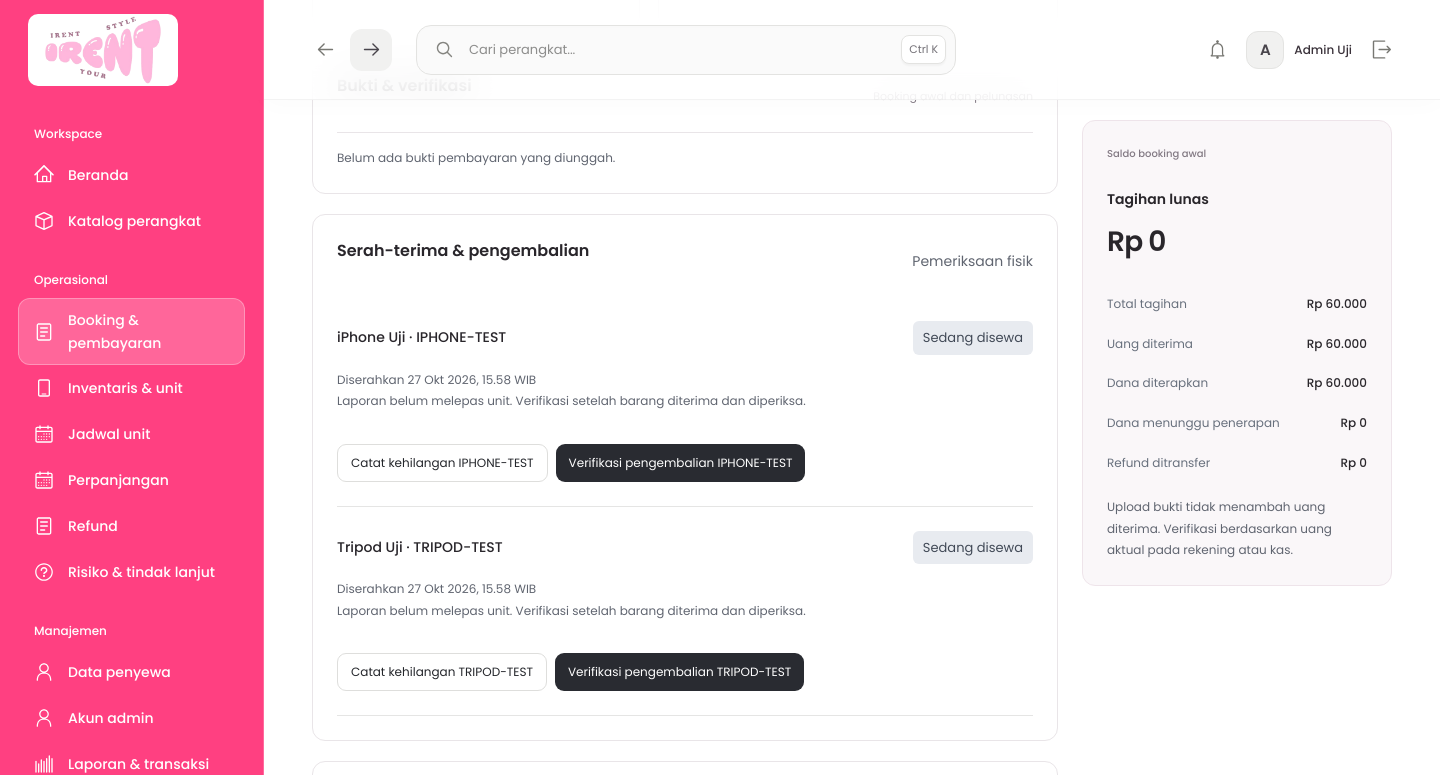
Test: verifies one booking item while another remains rented and exposes the new charge
(page scrolled)
Step 1. Click the button "Verifikasi pengembalian IPHONE-TEST" → (681, 463), box left=556, top=444, right=806, bottom=482
(page scrolled)
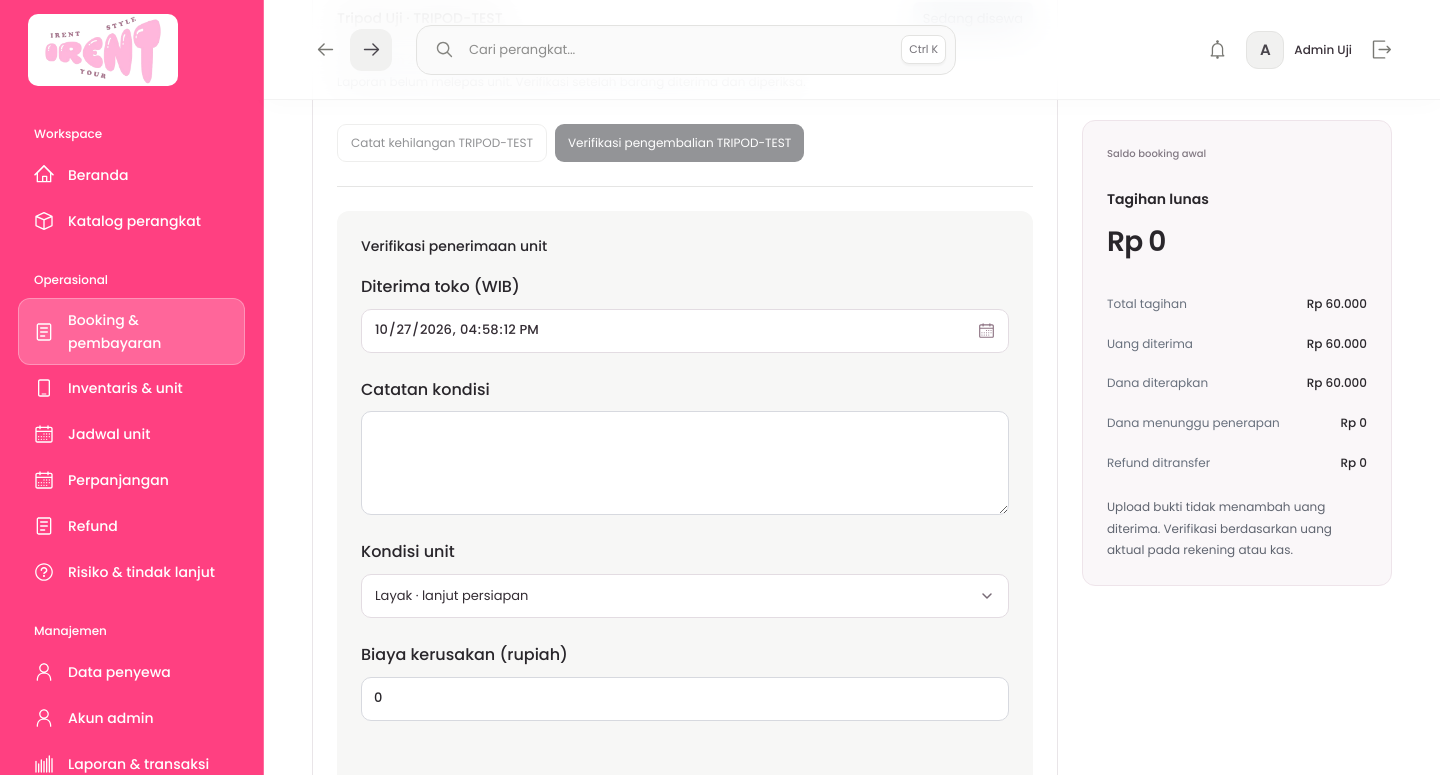
Step 2. Type "Barang lengkap dan fungsi diperiksa." into the text box labelled "Catatan kondisi" → (685, 463), box left=361, top=411, right=1009, bottom=515
(page scrolled)
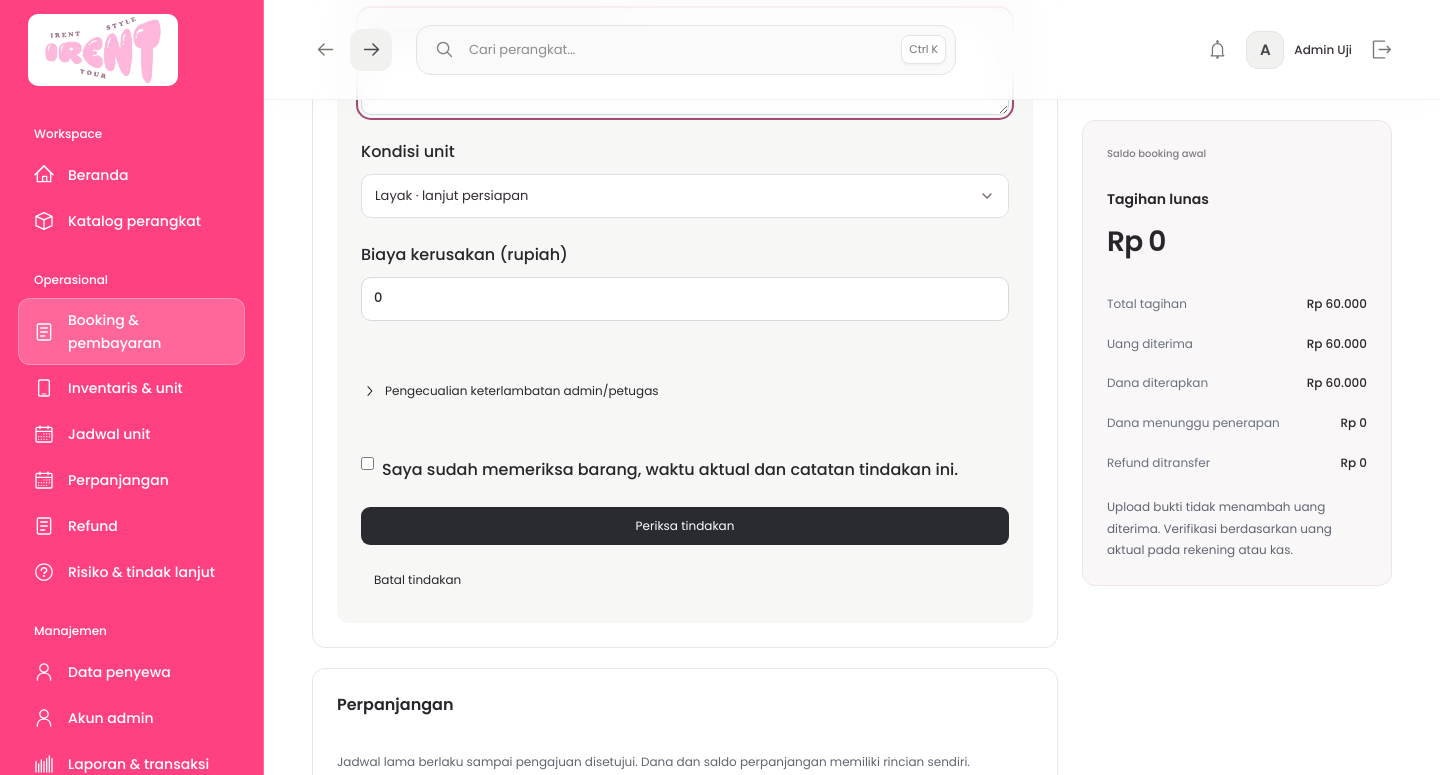
Step 3. Click the checkbox labelled "sudah memeriksa barang" → (368, 463), box left=361, top=457, right=374, bottom=470
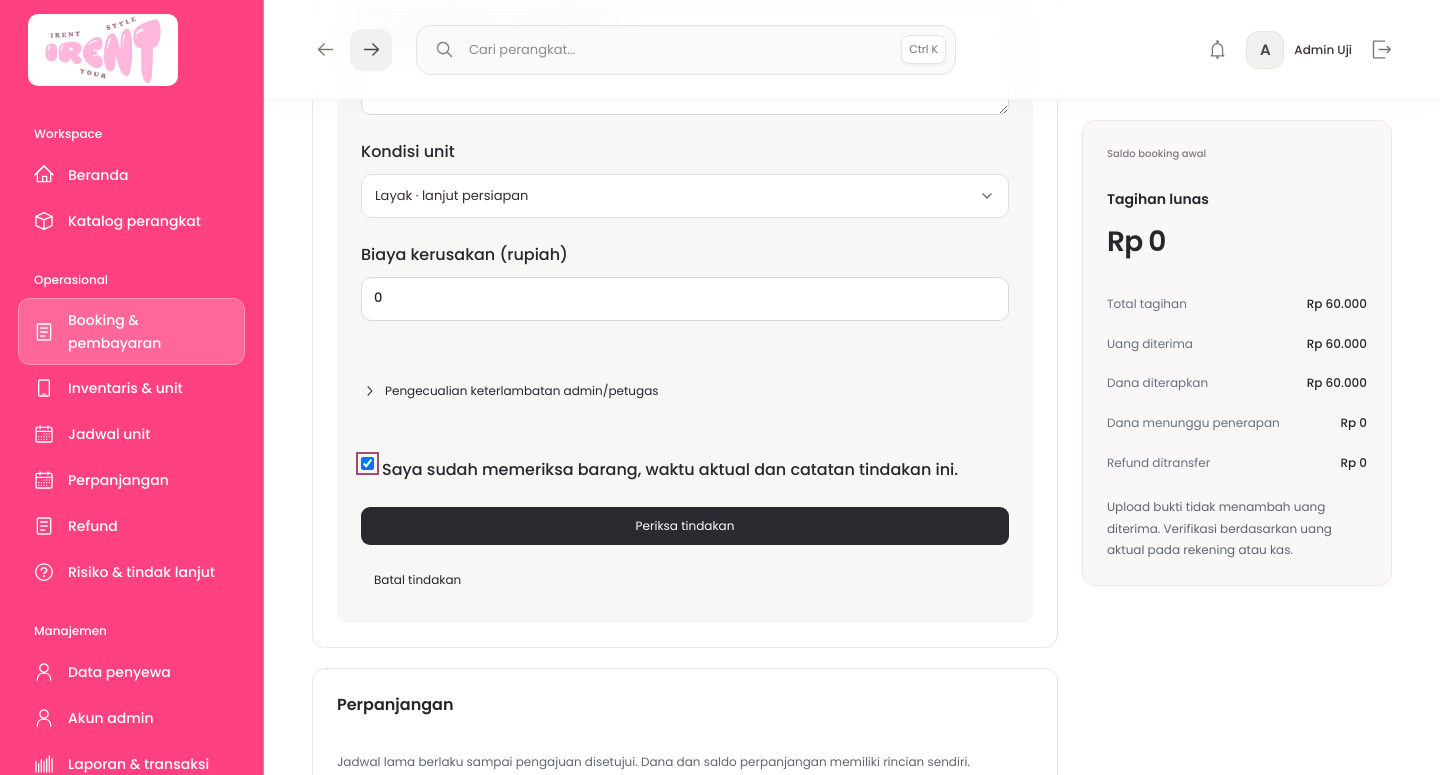
Step 4. Click the button "Periksa tindakan" → (685, 526), box left=361, top=507, right=1009, bottom=545
(page scrolled)
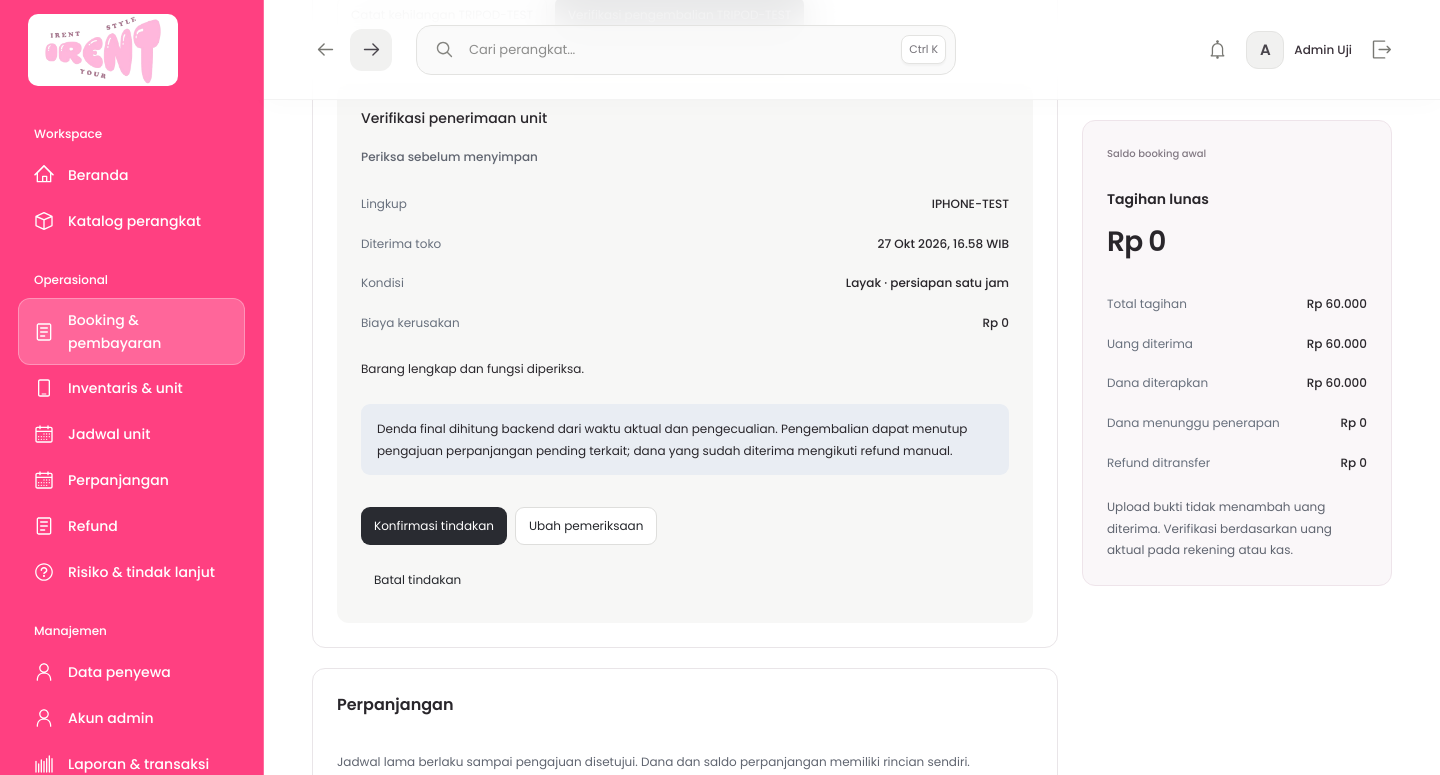
Step 5. Click the button "Konfirmasi tindakan" → (434, 526), box left=361, top=507, right=507, bottom=545
(page scrolled)
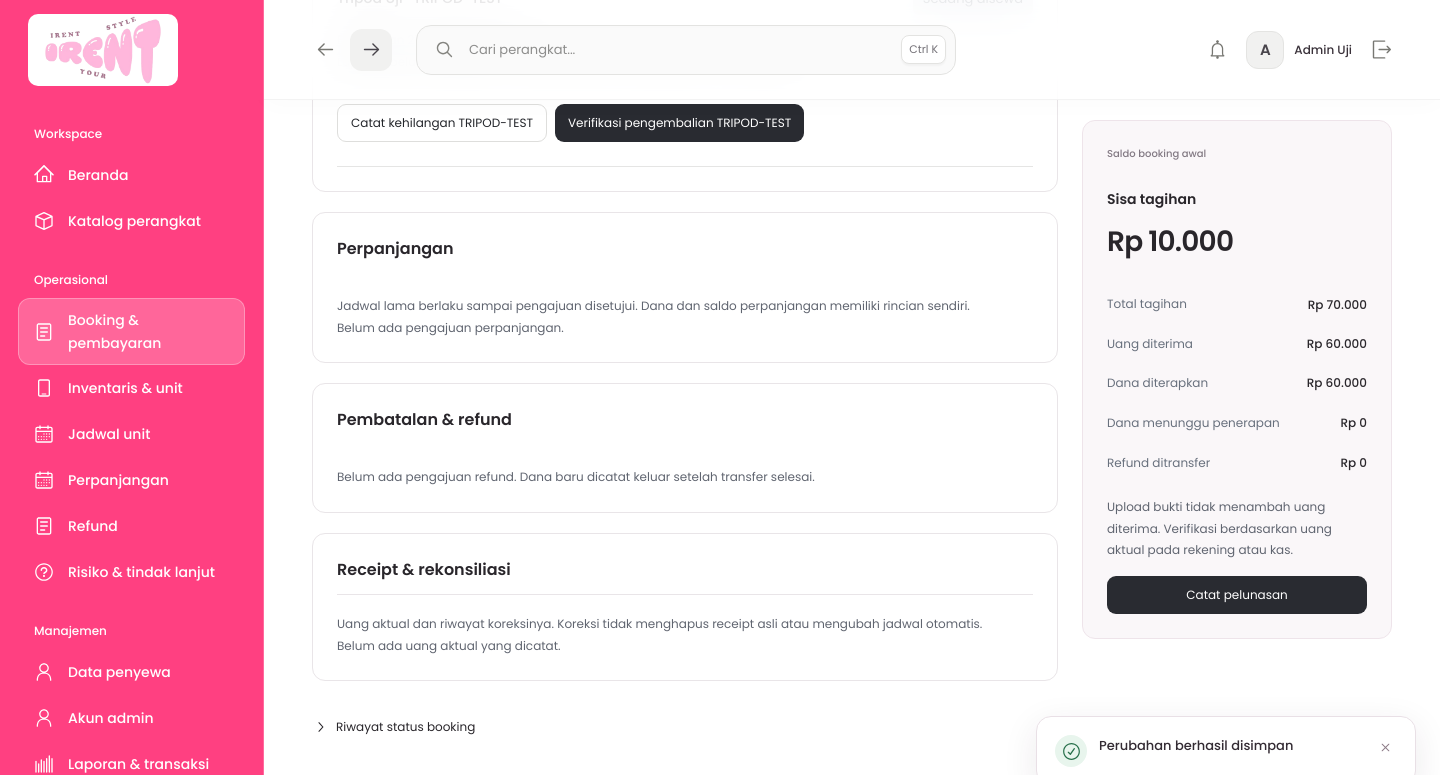
Expected: the button "Verifikasi pengembalian TRIPOD-TEST" is shown, left=555, top=104, right=804, bottom=142
Result: the button "Catat pelunasan" is shown at left=1107, top=575, right=1367, bottom=613
